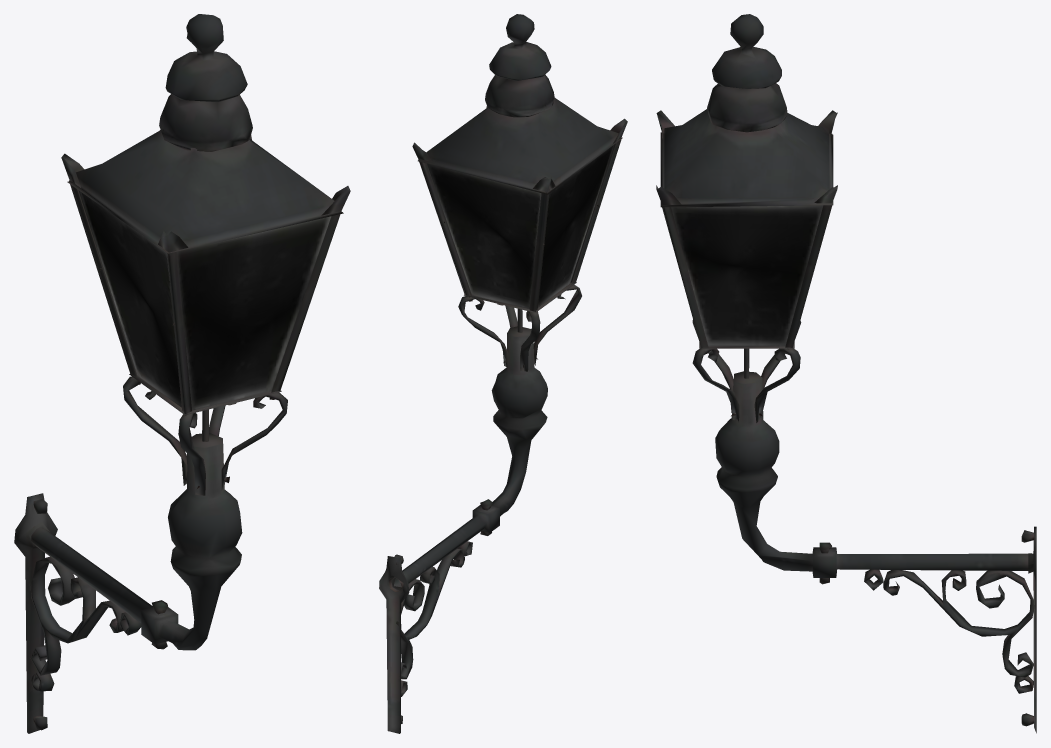
File: lampLow.glb
3 renders of one model, left to right at view 1: azimuth 30°, elevation 25°; view 2: azimuth 150°, elevation 25°; view 3: azimuth 270°, elevation 25°, orthographic. The views are drawn at different scales.
Parts seen in each view (by area): view 1: street_lamp_02; view 2: street_lamp_02; view 3: street_lamp_02.
Part boxes in pixels (x1,y1,x2,y2): street_lamp_02: (14,14,350,733); street_lamp_02: (379,14,627,733); street_lamp_02: (656,14,1036,733).
Size of the model in its own units: 0.3849 by 1.67 by 0.8053.
2 materials, 2 textured.
